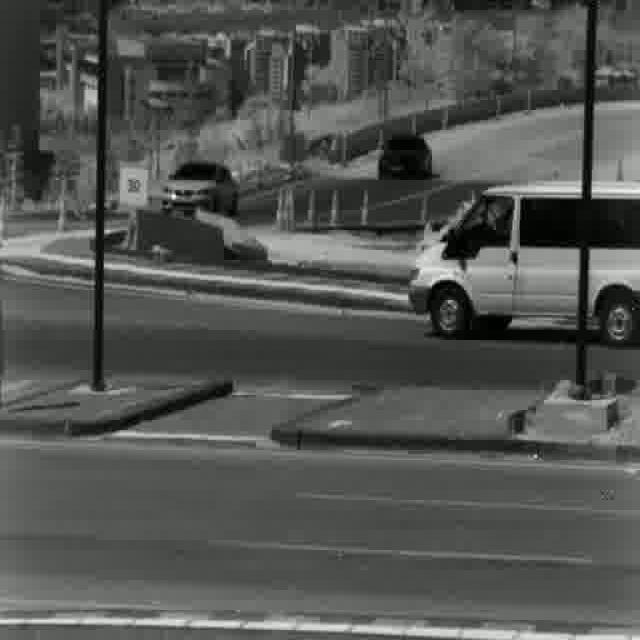Car: (406, 180, 640, 336), (160, 161, 240, 220), (378, 134, 432, 181)
